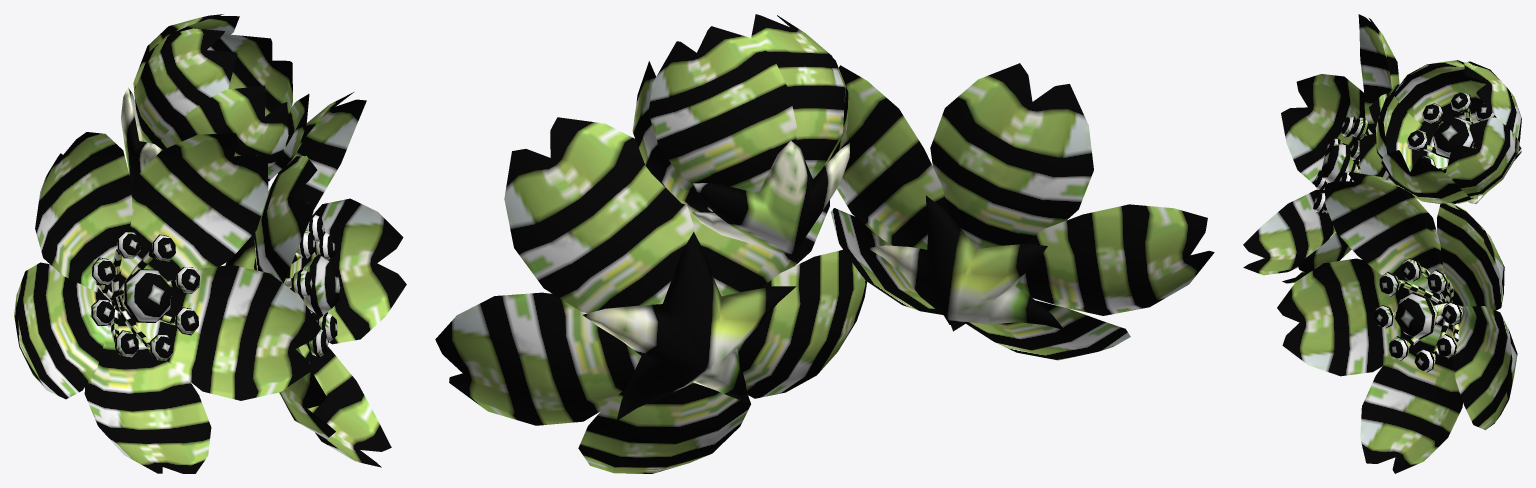
The model's file is pm0026_00_Rig.fbx.
The picture shows the model from 3 angles, left to right: view 1: azimuth 30°, elevation 25°; view 2: azimuth 150°, elevation 25°; view 3: azimuth 270°, elevation 25°; orthographic projection. The views are drawn at different scales.
Parts seen in each view (by area): view 1: doodad_spring_2023_flower; view 2: doodad_spring_2023_flower; view 3: doodad_spring_2023_flower.
Part boxes in pixels (<box>): doodad_spring_2023_flower: <box>14,14,406,473</box>; doodad_spring_2023_flower: <box>435,14,1214,473</box>; doodad_spring_2023_flower: <box>1243,14,1521,473</box>.
Size of the model in its own units: 0.1357 by 0.1094 by 0.0786.
